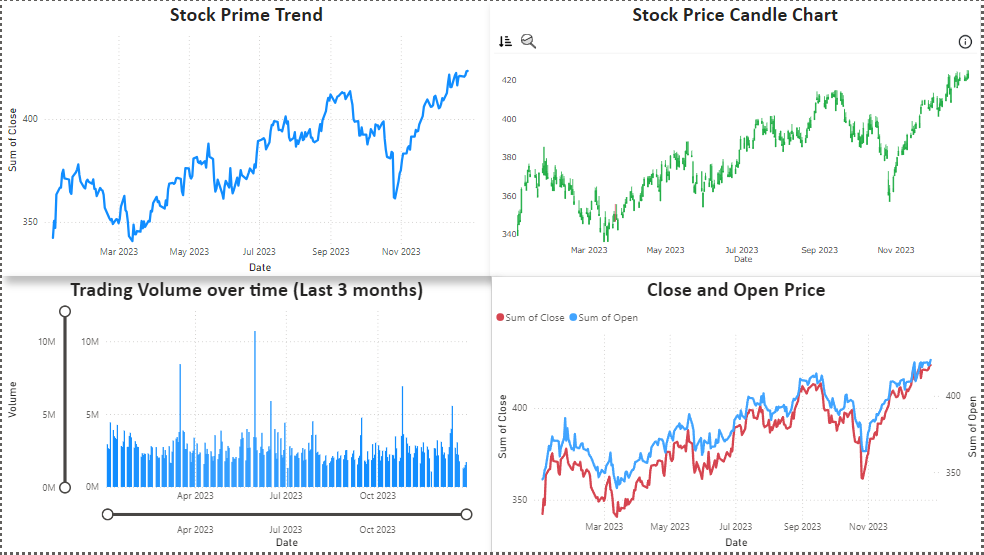

What the dashboard file says about the page in this screenshot:
{"tool":"powerbi","page":{"name":"Analysis","canvas":[1280,720],"ordinal":0},"visuals":[{"type":"lineChart","title":"Stock Prime Trend","fields":{"Category":["Stock_data.Date.Variation.Date Hierarchy.Month"],"Y":["Sum(Stock_data.Close)"]},"box":[0,0,639.5,359.8],"z":0},{"type":"candlestickD7180D8F77642DBFBF61A4FEEE09DDBD","title":"Stock Price Candle Chart","fields":{"col_0":["Stock_data.Date"],"col_1":["Sum(Stock_data.Low)"],"col_2":["Sum(Stock_data.High)"],"col_3":["Sum(Stock_data.Open)"],"col_4":["Sum(Stock_data.Close)"]},"box":[638.8,0,641.2,359.8],"z":1},{"type":"clusteredColumnChart","title":"Trading Volume over time (Last 3 months)","fields":{"Category":["Stock_data.Date.Variation.Date Hierarchy.Month"],"Y":["Sum(Stock_data.Volume)"]},"box":[0,360,640,360],"z":2},{"type":"lineChart","title":"Close and Open Price ","fields":{"Category":["Stock_data.Date.Variation.Date Hierarchy.Month"],"Y":["Sum(Stock_data.Close)"],"Y2":["Sum(Stock_data.Open)"]},"box":[640,360,640,360],"z":3}]}

Visuals, with their boxes in screenshot pixels (x1, y1, x2, y2), scaled from the page's 1280x720 canvas onto the 984x555 screenshot:
"Stock Prime Trend" lineChart: 0:0:492:277
"Stock Price Candle Chart" candlestickD7180D8F77642DBFBF61A4FEEE09DDBD: 491:0:983:277
"Trading Volume over time (Last 3 months)" clusteredColumnChart: 0:278:492:554
"Close and Open Price " lineChart: 492:278:983:554
